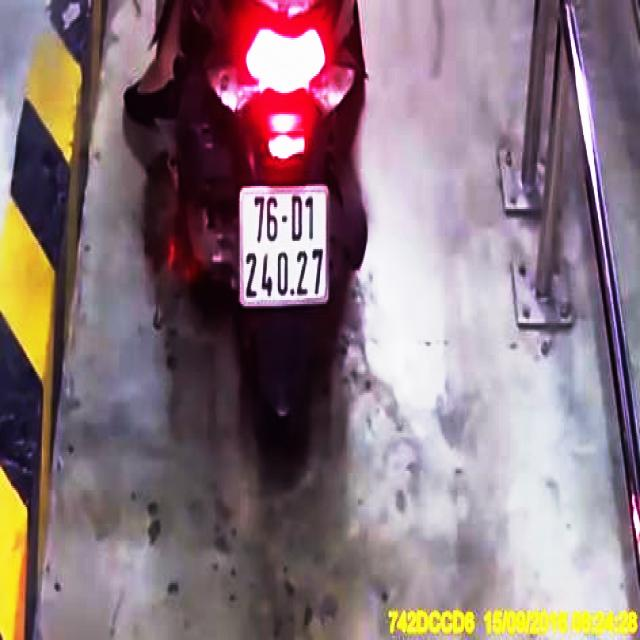license_plate: (240, 193, 331, 302)
